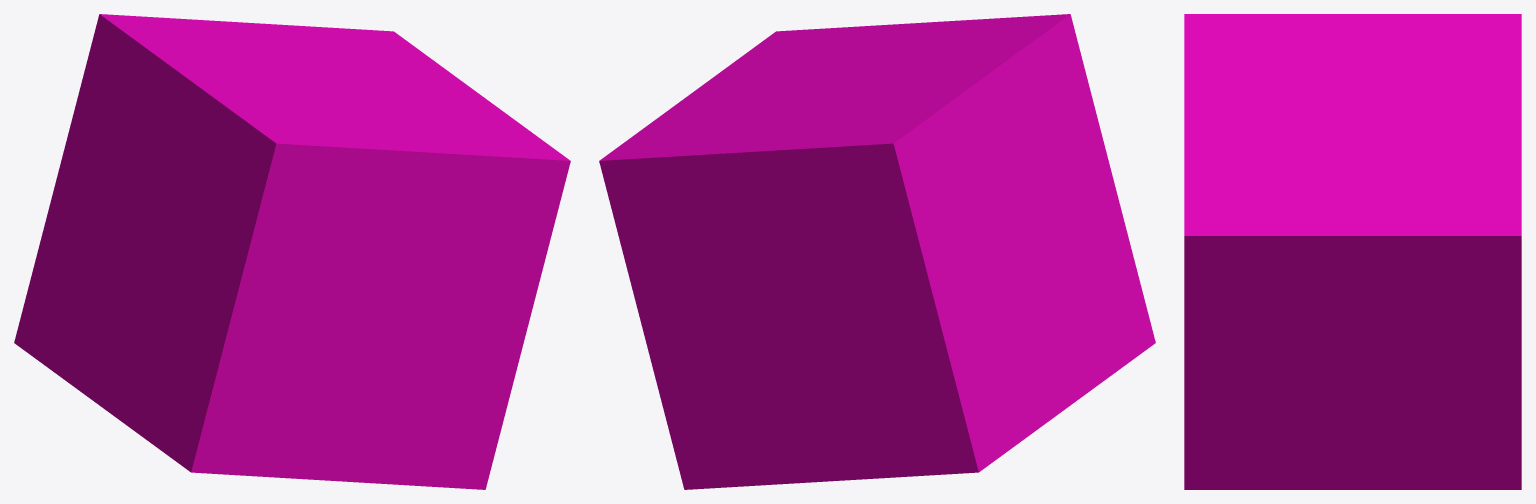
3 views of the same model, side by side, from view 1: azimuth 30°, elevation 25°; view 2: azimuth 150°, elevation 25°; view 3: azimuth 270°, elevation 25° (orthographic). The views are drawn at different scales.
Parts seen in each view (by area): view 1: Cube; view 2: Cube; view 3: Cube.
Boxes of the visible parts, bbox=[...] form: Cube: bbox=[14, 14, 570, 489]; Cube: bbox=[599, 14, 1155, 489]; Cube: bbox=[1184, 14, 1521, 489].
Size of the model in its own units: 4.91 by 4.91 by 3.96.
